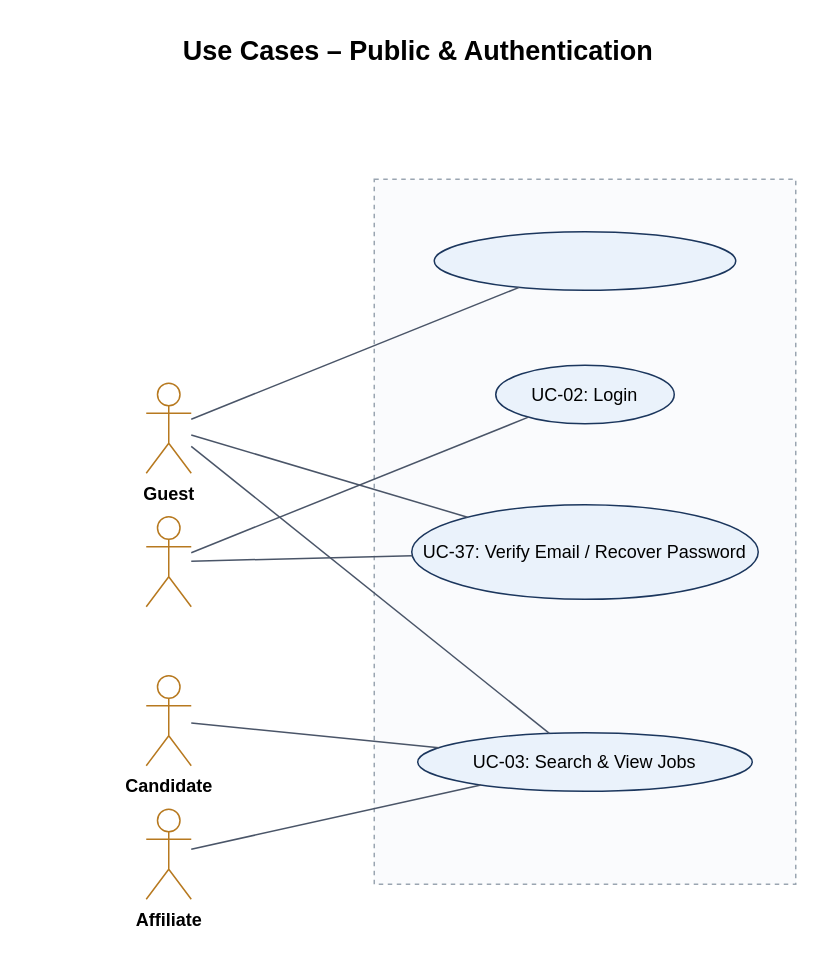
The diagram is 833 pixels wide and 956 high, and some of its shapes have lost their labels. Each missing label, with the box of its shape:
HR Connect: (373, 178, 796, 884)
Registered User: (145, 515, 191, 607)
UC-01: Register Account: (433, 230, 736, 290)
